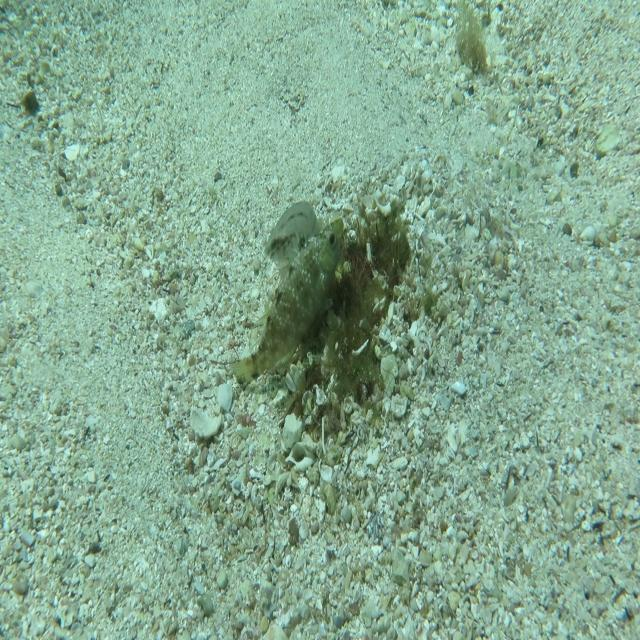FAN: (227, 215, 345, 387)
core_nest: (346, 217, 400, 273)
female: (264, 199, 320, 277)
nest: (267, 161, 427, 427)
